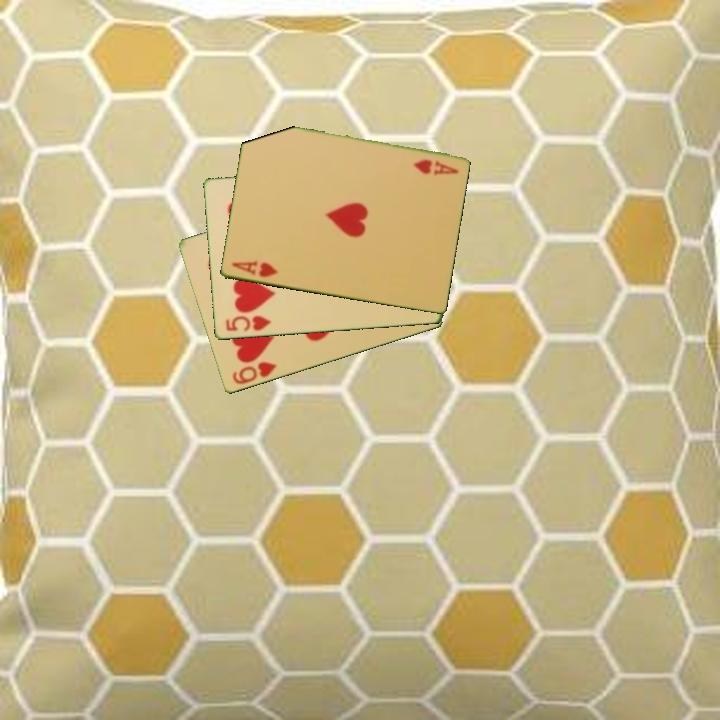5h: (222, 312, 274, 334)
6h: (229, 358, 279, 388)
Ah: (228, 257, 281, 281), (410, 156, 461, 177)
